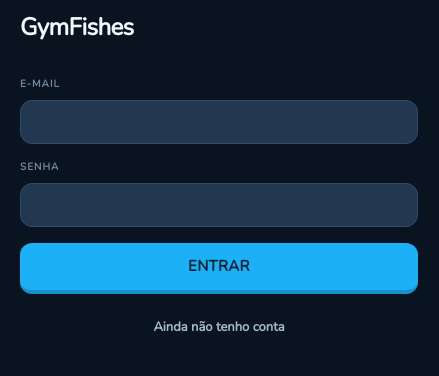
Login › rejects an empty password
Type "leo@exemplo.com" into the field labelled "E-mail". click: (219, 122)
box: top-left (20, 100), bottom-right (418, 144)
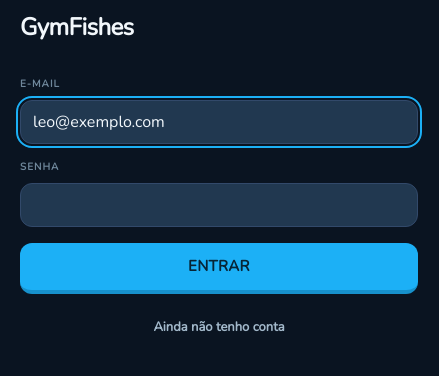
Click the button "Entrar". click: (219, 268)
box: top-left (20, 243), bottom-right (418, 294)
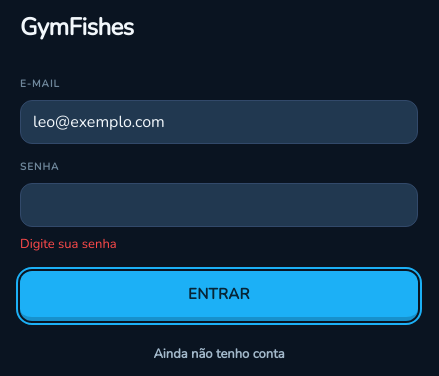
expect the text "Digite sua senha" is shown: met, box top-left (20, 235), bottom-right (117, 253)
